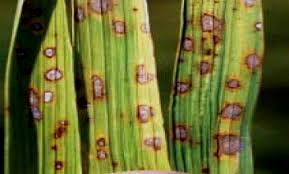0 BrownSpot: (22, 87, 59, 117), (214, 128, 247, 158), (133, 60, 162, 86), (220, 95, 249, 121), (89, 70, 109, 101), (90, 133, 110, 164), (199, 9, 225, 32), (137, 103, 165, 123), (41, 66, 71, 81), (174, 122, 196, 142), (52, 121, 74, 140), (40, 45, 64, 62), (225, 76, 246, 95), (143, 133, 165, 151), (244, 50, 263, 69), (71, 6, 90, 22), (111, 21, 130, 35), (182, 38, 196, 55), (197, 62, 211, 77), (141, 21, 155, 34), (254, 19, 264, 34), (55, 157, 65, 170), (243, 2, 257, 10)
